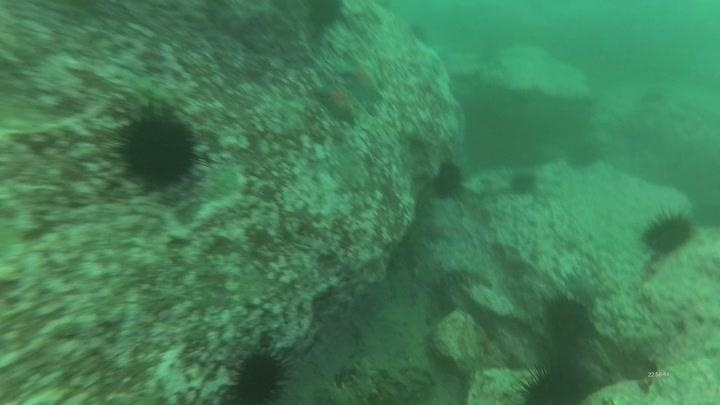echinus: (111, 105, 205, 192), (226, 347, 293, 405), (511, 360, 594, 404), (540, 293, 593, 347), (639, 208, 696, 258), (430, 159, 467, 201), (303, 1, 347, 31), (564, 138, 602, 172), (634, 76, 672, 110), (472, 35, 510, 69), (401, 14, 439, 48), (506, 169, 540, 199)
holothurian: (331, 356, 383, 404)
starfish: (337, 55, 385, 106), (312, 77, 362, 125), (561, 268, 604, 313)
